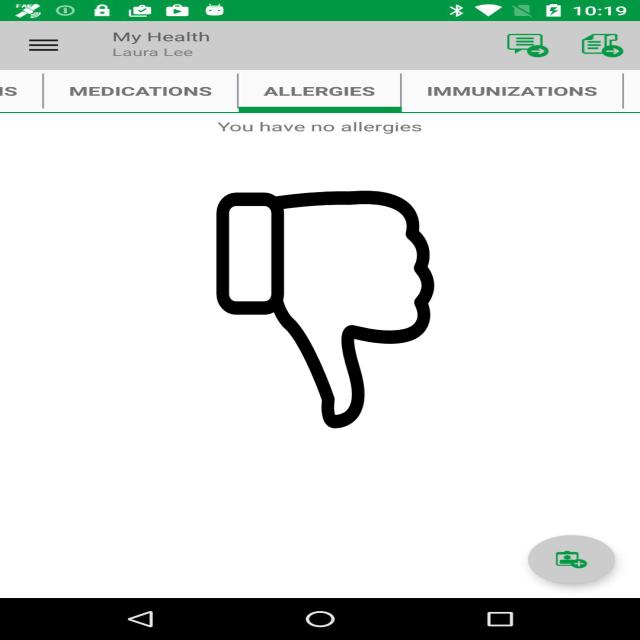obstruction: (213, 191, 438, 428)
